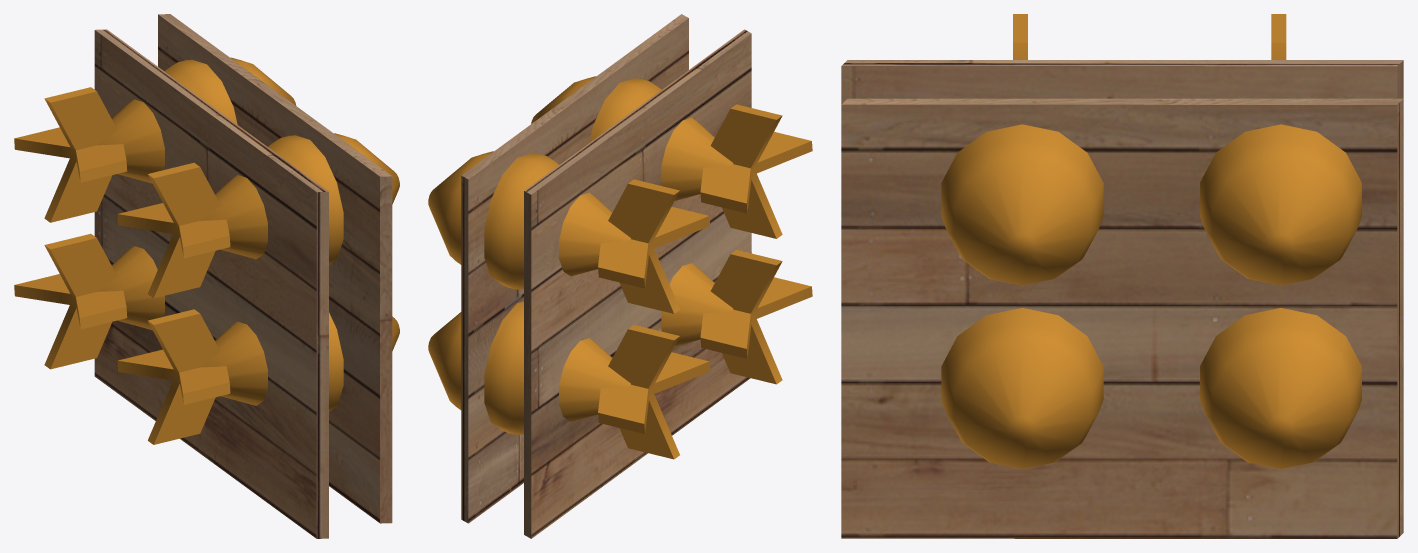
The model's file is bombs 1.FBX.
3 renders of one model, left to right at view 1: azimuth 30°, elevation 25°; view 2: azimuth 150°, elevation 25°; view 3: azimuth 270°, elevation 25°, orthographic. The views are drawn at different scales.
Visible parts, largest first — view 1: bombs; view 2: bombs; view 3: bombs.
Part boxes in pixels (<box>): bombs: <box>14,14,399,538</box>; bombs: <box>428,14,812,538</box>; bombs: <box>841,14,1403,538</box>.
Size of the model in its own units: 34.01 by 46.02 by 53.98.
Materials: 2 (1 with a texture image).
